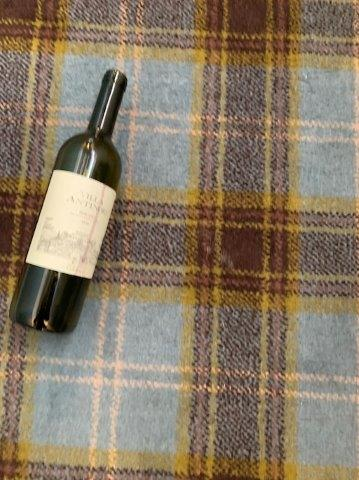botolkaca: (8, 72, 126, 334)
